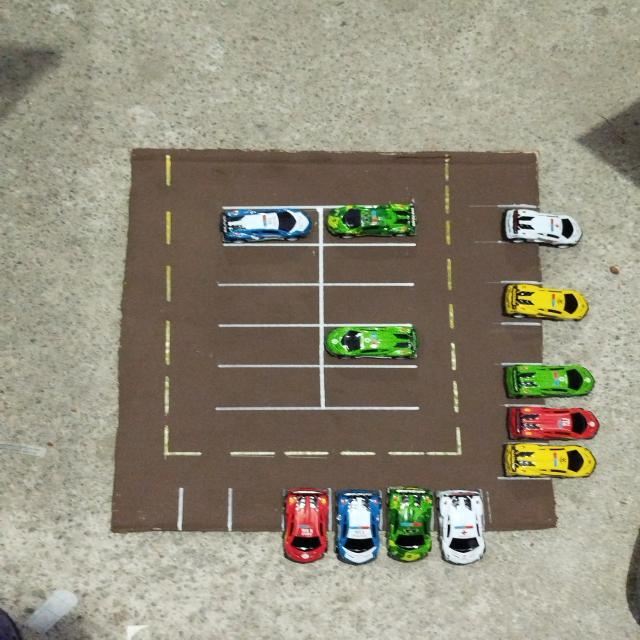libre: (216, 366, 324, 409), (497, 322, 607, 364), (112, 488, 178, 554), (216, 243, 322, 284), (217, 284, 322, 325), (216, 325, 321, 365), (321, 366, 419, 407), (319, 285, 417, 325), (499, 240, 602, 278), (320, 244, 415, 284), (231, 487, 281, 556), (180, 488, 230, 555)
no_estacionarse: (488, 477, 561, 537)
ocupado: (383, 486, 439, 568), (501, 281, 604, 320), (438, 487, 488, 567), (331, 487, 383, 563), (500, 404, 601, 443), (323, 325, 419, 366), (499, 364, 604, 400), (217, 207, 319, 244), (320, 206, 418, 244), (498, 205, 592, 244), (501, 442, 601, 478), (283, 486, 330, 562)
